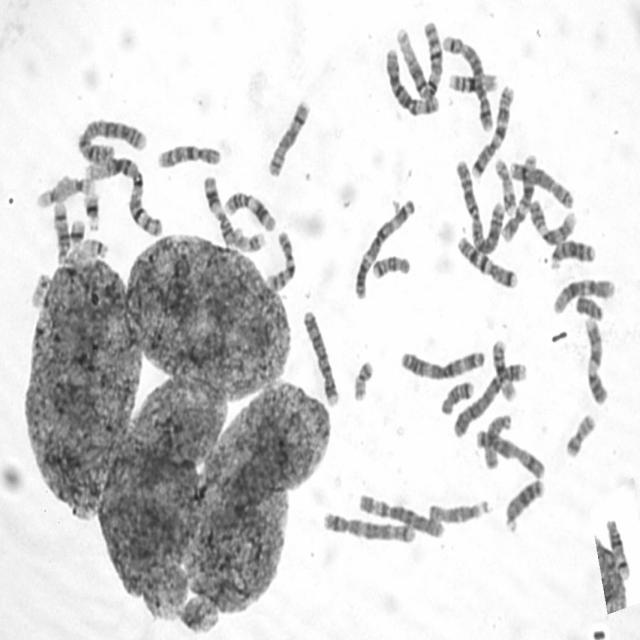A1: (80, 150, 165, 239), (389, 16, 445, 103)
A2: (451, 154, 505, 256), (73, 112, 148, 164)
A3: (350, 192, 416, 302), (396, 342, 487, 381)
B4: (449, 355, 528, 439), (299, 304, 341, 408)
B5: (438, 27, 496, 132), (319, 505, 416, 545)
C10: (262, 224, 298, 293), (153, 137, 222, 170)
C11: (200, 170, 239, 244), (220, 185, 278, 233)
C12: (498, 148, 538, 243), (548, 272, 616, 316)
C6: (354, 486, 446, 540), (382, 42, 442, 116)
C7: (467, 79, 516, 179), (453, 230, 519, 290)
C8: (264, 93, 312, 179), (505, 154, 576, 210)
C9: (580, 310, 610, 406), (526, 193, 578, 247)
D13: (501, 472, 545, 534), (546, 234, 598, 271)
D14: (602, 513, 632, 580), (49, 196, 71, 265)
D15: (424, 492, 492, 526), (480, 408, 514, 471)
E16: (488, 334, 518, 402), (443, 65, 500, 94)
E17: (491, 151, 518, 215), (228, 220, 266, 253)
E18: (436, 374, 476, 416), (368, 249, 412, 281)
F19: (34, 172, 81, 210), (58, 168, 96, 200)
F20: (561, 407, 598, 458), (349, 354, 376, 402)
G21: (80, 187, 101, 231), (66, 214, 86, 247)
G22: (26, 266, 51, 310), (78, 232, 110, 260)
X: (471, 423, 547, 480)
Y: (572, 289, 605, 321)
